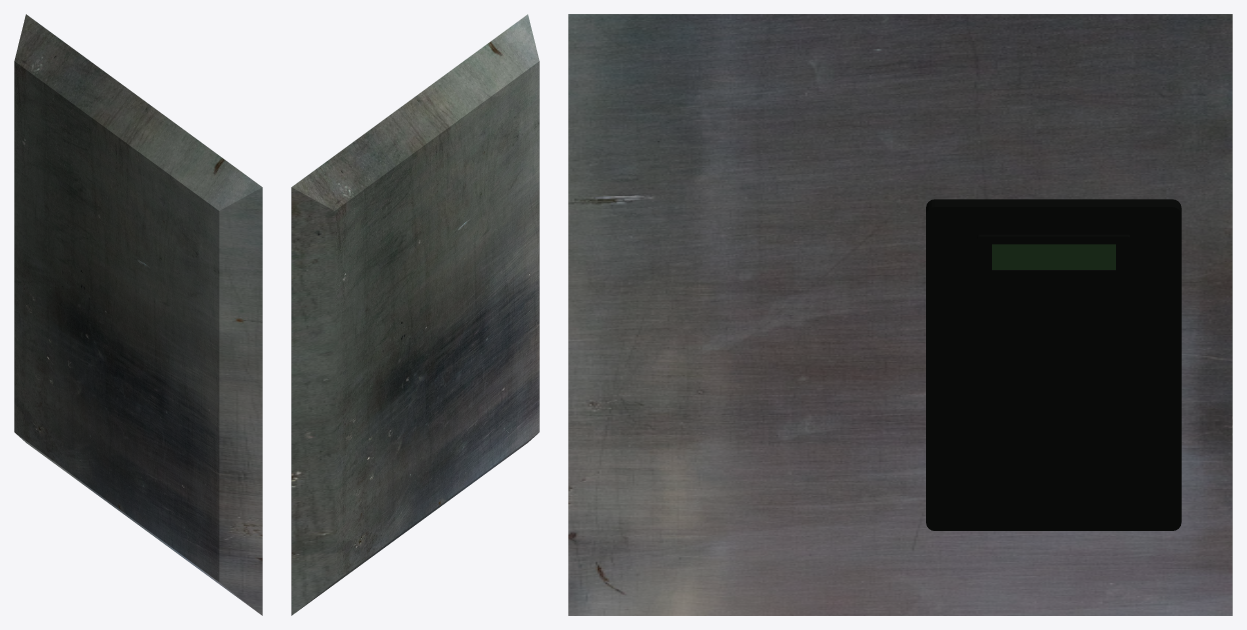
File: SafeDoor.obj
3 renders of one model, left to right at view 1: azimuth 30°, elevation 25°; view 2: azimuth 150°, elevation 25°; view 3: azimuth 270°, elevation 25°, orthographic. The views are drawn at different scales.
Parts seen in each view (by area): view 1: Safe_Door; view 2: Safe_Door; view 3: Safe_Door.
Part boxes in pixels (box(x1,y1,x2,y2)): Safe_Door: box(14, 14, 262, 615); Safe_Door: box(291, 14, 539, 615); Safe_Door: box(568, 14, 1232, 615).
Size of the model in its own units: 0.1024 by 1 by 1.
